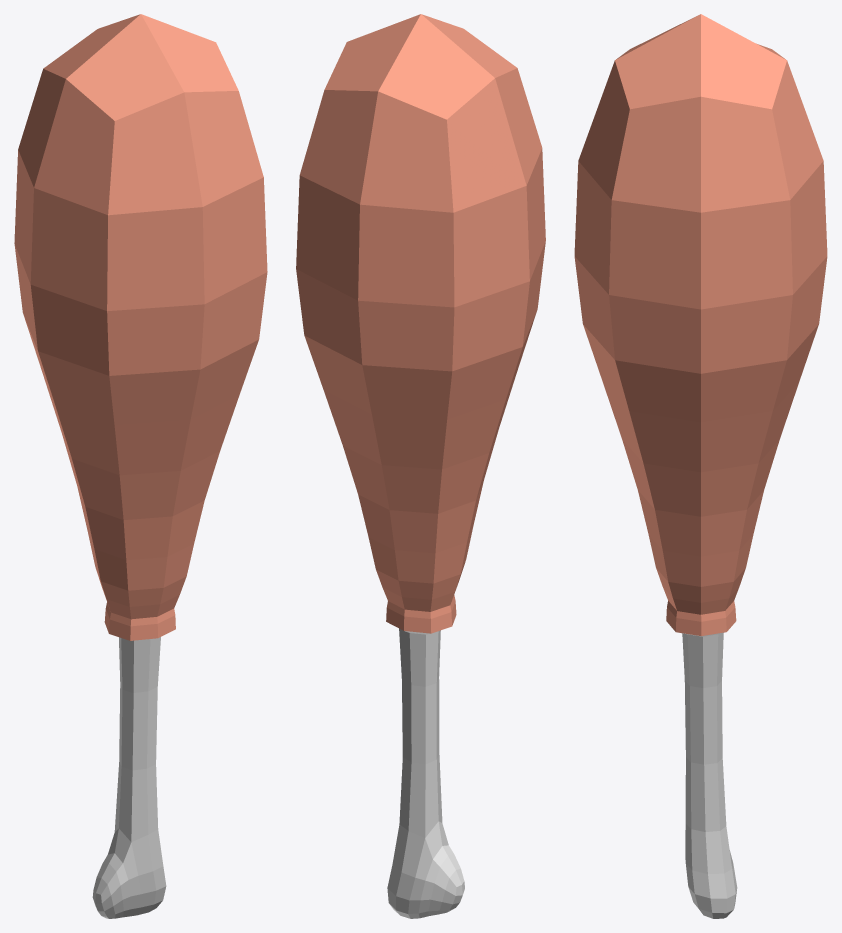
File: Chicken.fbx
3 views of the same model, side by side, from view 1: azimuth 30°, elevation 25°; view 2: azimuth 150°, elevation 25°; view 3: azimuth 270°, elevation 25° (orthographic).
Parts seen in each view (by area): view 1: Cube.023; view 2: Cube.023; view 3: Cube.023.
Part boxes in pixels (<box>): Cube.023: <box>14,14,267,918</box>; Cube.023: <box>296,14,545,918</box>; Cube.023: <box>574,14,827,918</box>.
Bounding box in the file's own units: 189 × 743 × 189.
